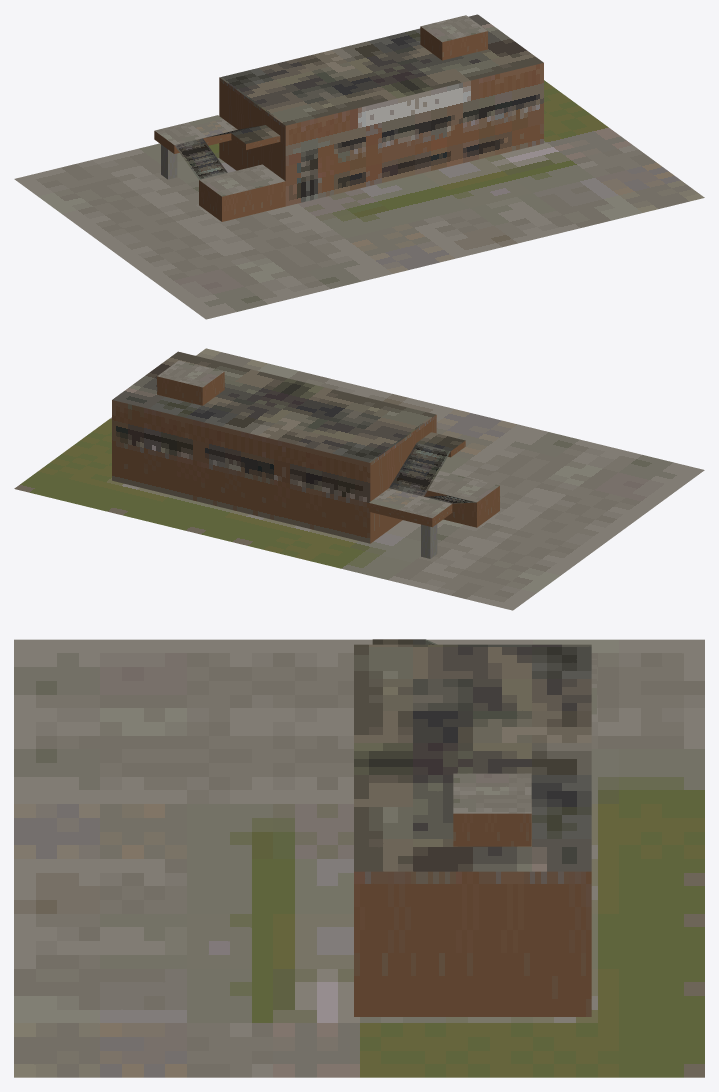
File: lodsw_library.obj
The picture shows the model from 3 angles, top to bottom: view 1: azimuth 30°, elevation 25°; view 2: azimuth 150°, elevation 25°; view 3: azimuth 270°, elevation 25°; orthographic projection. The views are drawn at different scales.
Parts seen in each view (by area): view 1: LODsw_library; view 2: LODsw_library; view 3: LODsw_library.
Boxes of the visible parts, x1,y1,x2,y2 form: LODsw_library: (14, 14, 704, 319); LODsw_library: (14, 348, 704, 610); LODsw_library: (14, 639, 704, 1077).
Bounding box in the file's own units: 37.5 × 7.32 × 25.
1 material, 1 textured.
